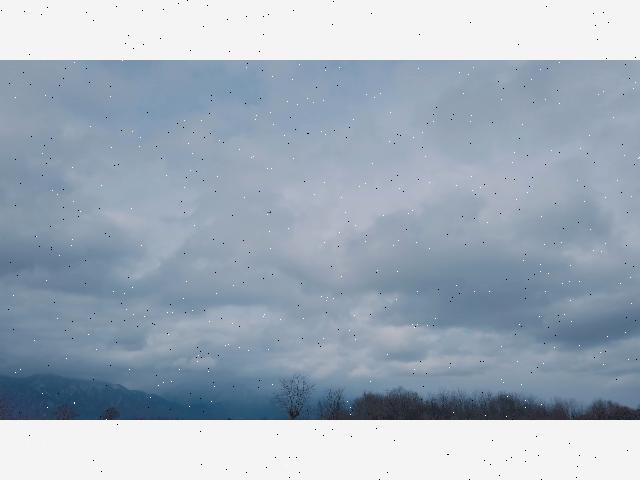Anti-Drone: (264, 208, 274, 215)
